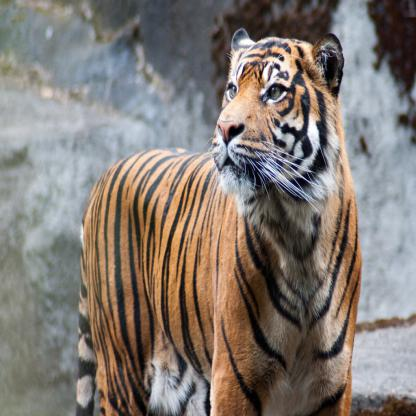tiger: (211, 15, 337, 224)
